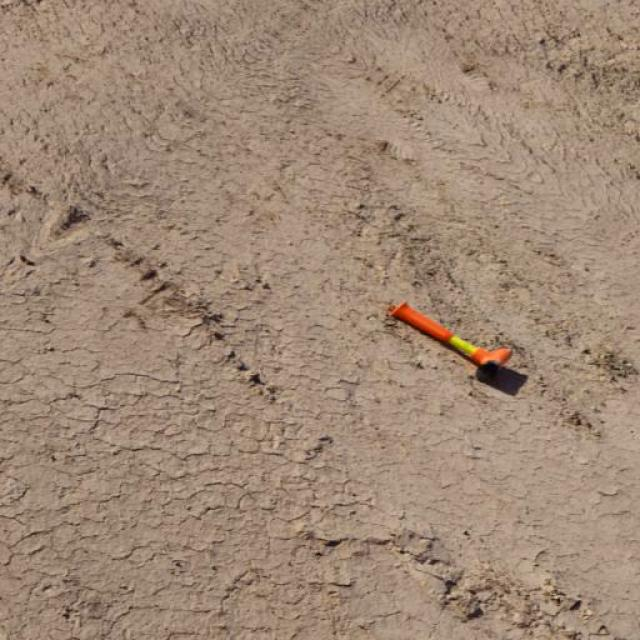mallet: (385, 299, 513, 380)
